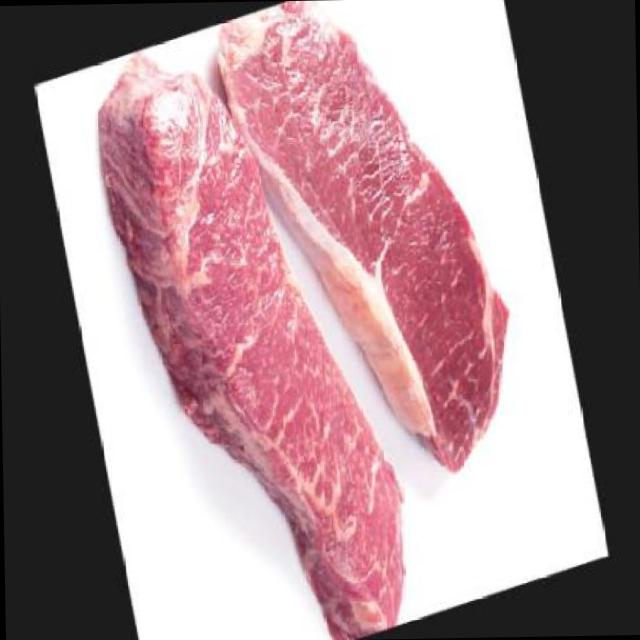beef: (90, 50, 412, 640), (215, 0, 518, 474)
